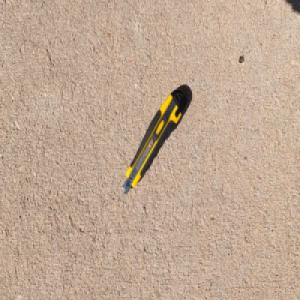Cutter: (121, 87, 188, 195)
